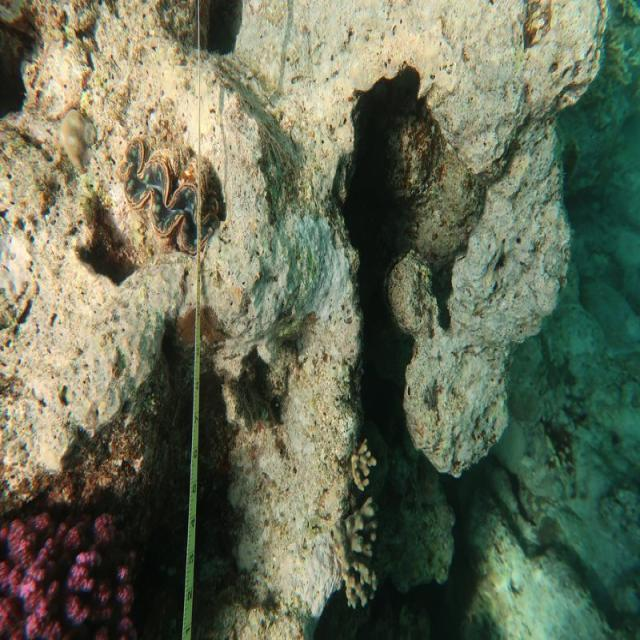Healthy Coral: (2, 488, 145, 640)
